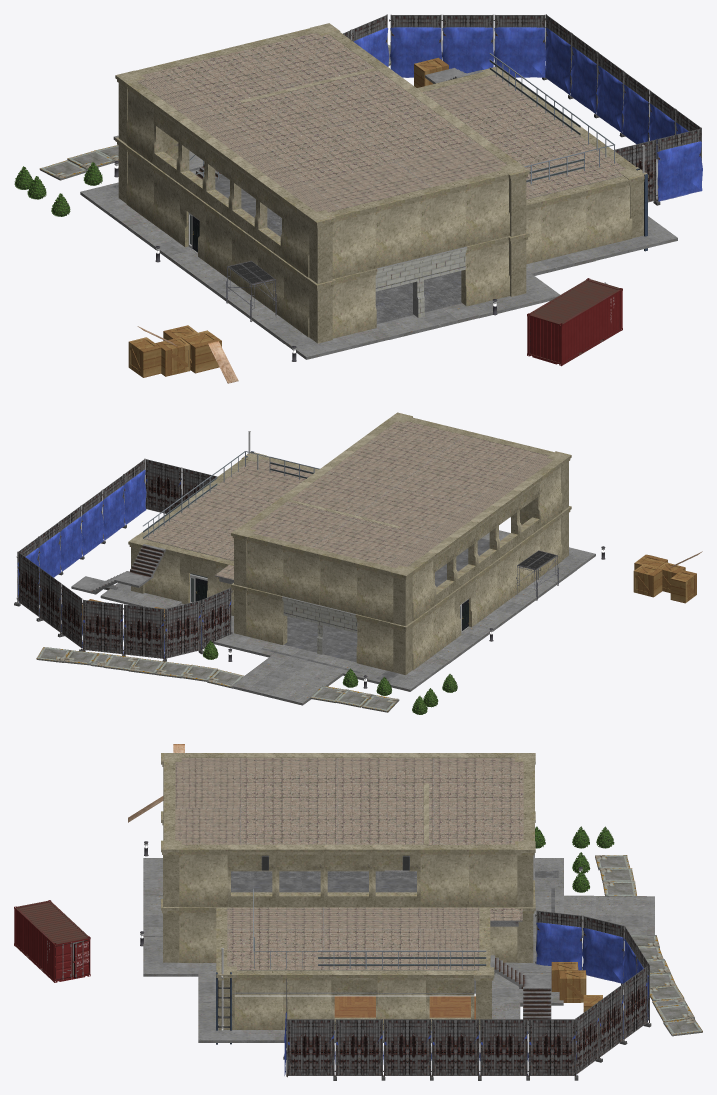
File: Building_8 Auto tune shop 308.fbx
3 views of the same model, one above another, from view 1: azimuth 30°, elevation 25°; view 2: azimuth 150°, elevation 25°; view 3: azimuth 270°, elevation 25° (orthographic). The views are drawn at different scales.
Parts seen in each view (by area): view 1: ContainerNewBlue_LOD0, Floor_A_6x6m_6, Floor_A_6x6m_5, Floor_A_6x6m, Floor_A_6x6m_2, Floor_A_6x6m_1, Floor_A_6x6m_12, Floor_A_6x6m_4, Floor_A_6x6m_13, Floor_A_6x6m_7, Wall_AB_3m_11, Wall_AB_3m_1 (+68 smaller); view 2: Floor_A_6x6m_6, Floor_A_6x6m_5, Floor_A_6x6m, Floor_A_6x6m_2, Floor_A_6x6m_1, Floor_A_6x6m_4, Floor_A_6x6m_13, Floor_A_6x6m_12, Floor_A_6x6m_7, Wall_AB_3m_8, Wall_AB_3m_4, Wall_AB_3m_6 (+63 smaller); view 3: Floor_A_6x6m_6, Floor_A_6x6m_12, Floor_A_6x6m_5, Floor_A_6x6m, Floor_A_6x6m_2, Floor_A_6x6m_13, ContainerNewBlue_LOD0, Floor_A_6x6m_1, Floor_A_6x6m_4, Wall_AB_3m_3, Wall_AB_3m_9, Wall_AB_3m_10 (+63 smaller).
Boxes of the visible parts, x1,y1,x2,y2 form: ContainerNewBlue_LOD0: [527, 278, 622, 366]; Floor_A_6x6m_6: [254, 123, 395, 183]; Floor_A_6x6m_5: [202, 85, 343, 145]; Floor_A_6x6m: [154, 50, 291, 107]; Floor_A_6x6m_2: [344, 104, 475, 161]; Floor_A_6x6m_1: [292, 66, 423, 123]; Floor_A_6x6m_12: [506, 135, 625, 195]; Floor_A_6x6m_4: [244, 32, 371, 85]; Floor_A_6x6m_13: [454, 97, 579, 153]; Floor_A_6x6m_7: [306, 161, 430, 209]; Wall_AB_3m_11: [417, 180, 467, 257]; Wall_AB_3m_1: [372, 191, 422, 268]; Floor_A_6x6m_6: [394, 456, 509, 505]; Floor_A_6x6m_5: [352, 488, 467, 536]; Floor_A_6x6m: [312, 519, 424, 565]; Floor_A_6x6m_2: [328, 440, 436, 487]; Floor_A_6x6m_1: [285, 471, 393, 518]; Floor_A_6x6m_4: [250, 503, 350, 547]; Floor_A_6x6m_13: [170, 488, 272, 534]; Floor_A_6x6m_12: [213, 459, 315, 503]; Floor_A_6x6m_7: [437, 435, 538, 474]; Wall_AB_3m_8: [282, 542, 323, 605]; Wall_AB_3m_4: [318, 551, 359, 613]; Wall_AB_3m_6: [355, 559, 396, 622]; Floor_A_6x6m_6: [241, 767, 337, 808]; Floor_A_6x6m_12: [227, 929, 323, 970]; Floor_A_6x6m_5: [337, 767, 433, 808]; Floor_A_6x6m: [434, 767, 523, 808]; Floor_A_6x6m_2: [241, 808, 337, 844]; Floor_A_6x6m_13: [324, 929, 420, 970]; ContainerNewBlue_LOD0: [14, 900, 90, 982]; Floor_A_6x6m_1: [337, 808, 433, 844]; Floor_A_6x6m_4: [434, 808, 523, 844]; Wall_AB_3m_3: [179, 844, 227, 907]; Wall_AB_3m_9: [469, 844, 517, 907]; Wall_AB_3m_10: [420, 845, 468, 907].
Size of what is drawn, in the model's own units: 4153 by 877 by 4282.
